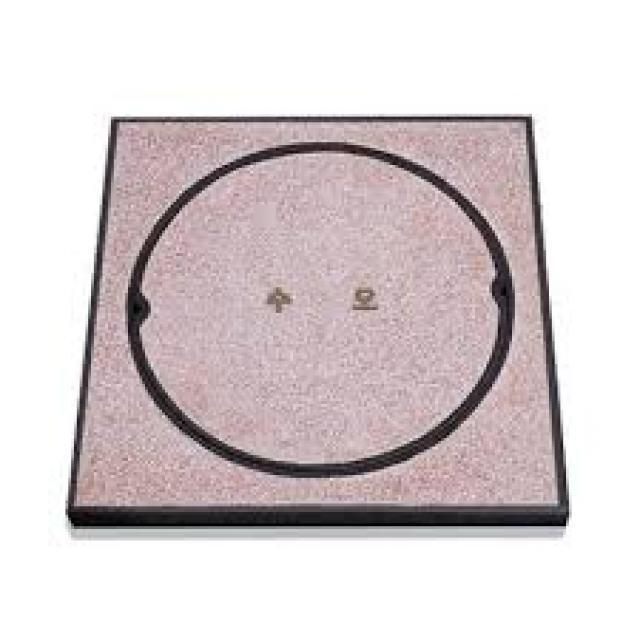Sewer Cover: (64, 86, 601, 563)
